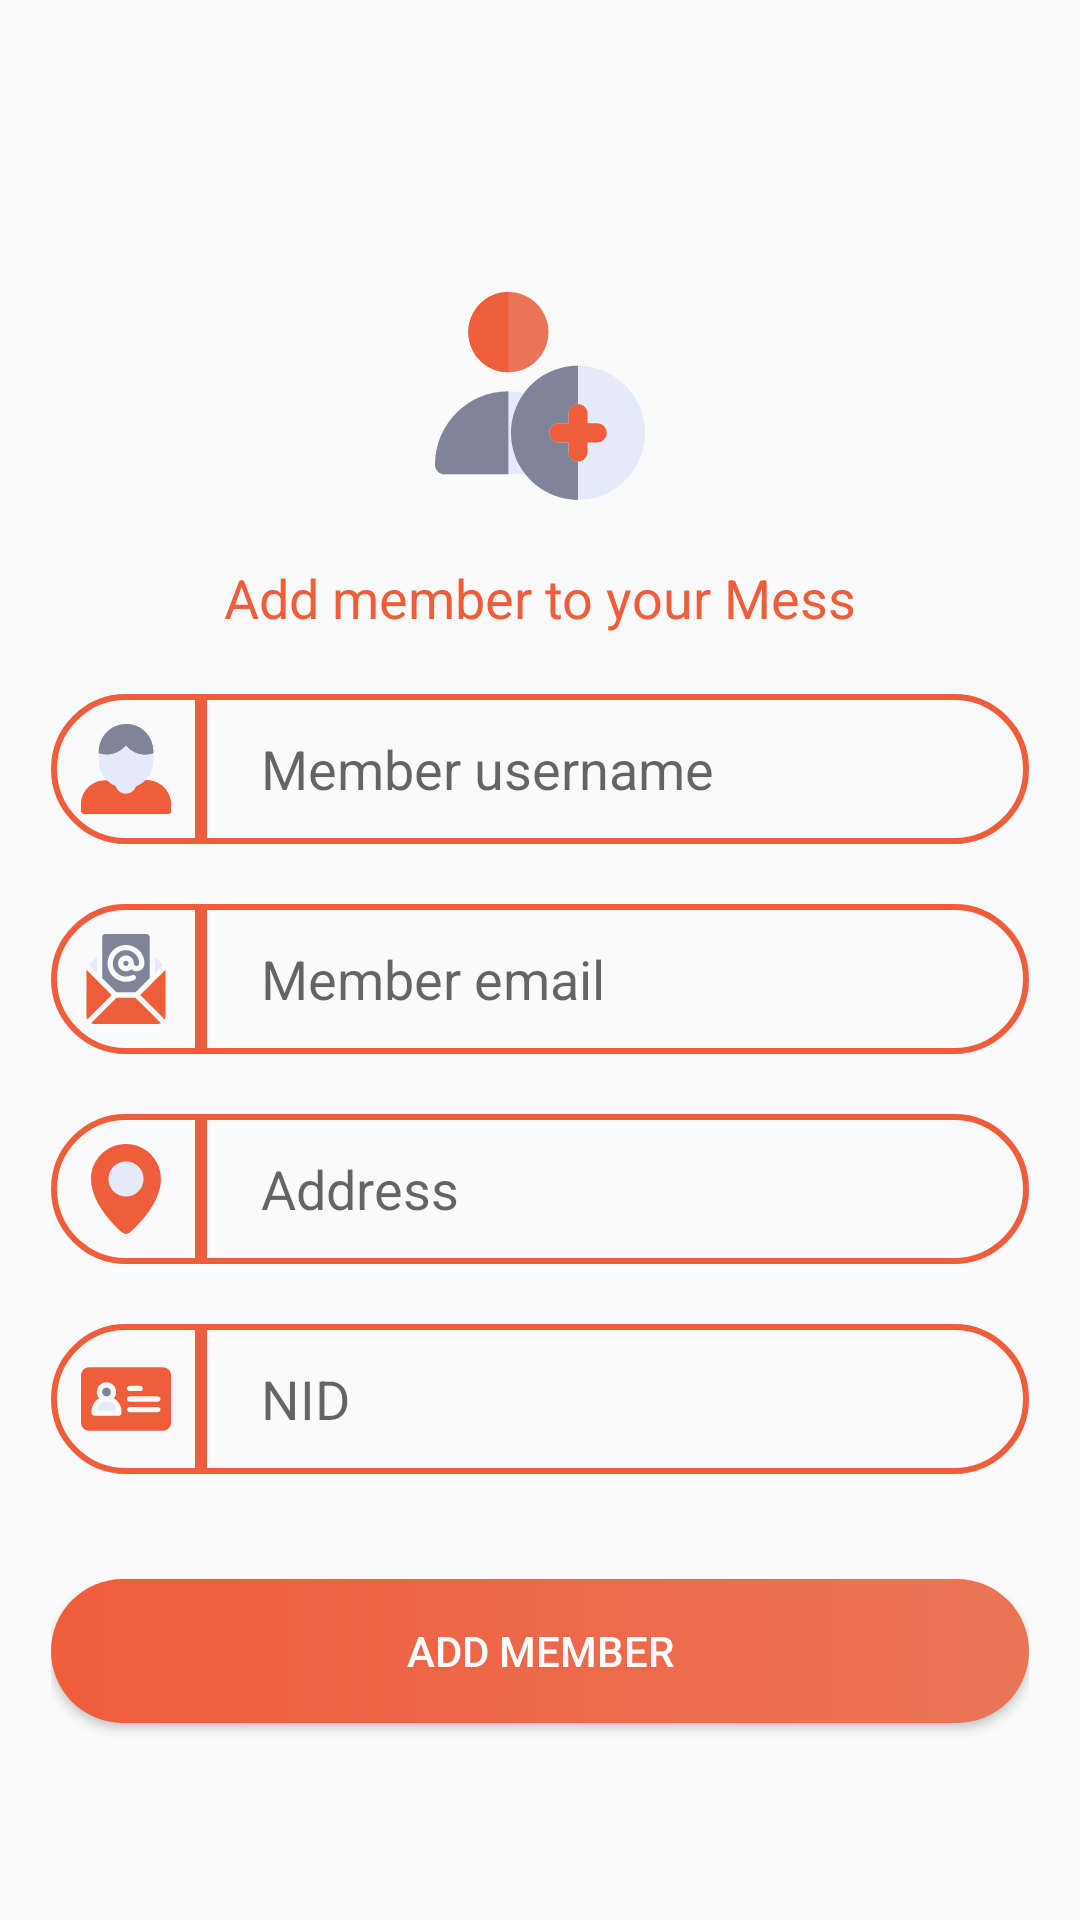

Icons on this 1080 × 1920 Android screen, each with the point to tap as point (x, y):
add person: point (521, 396)
location: point (126, 1189)
man: point (126, 769)
